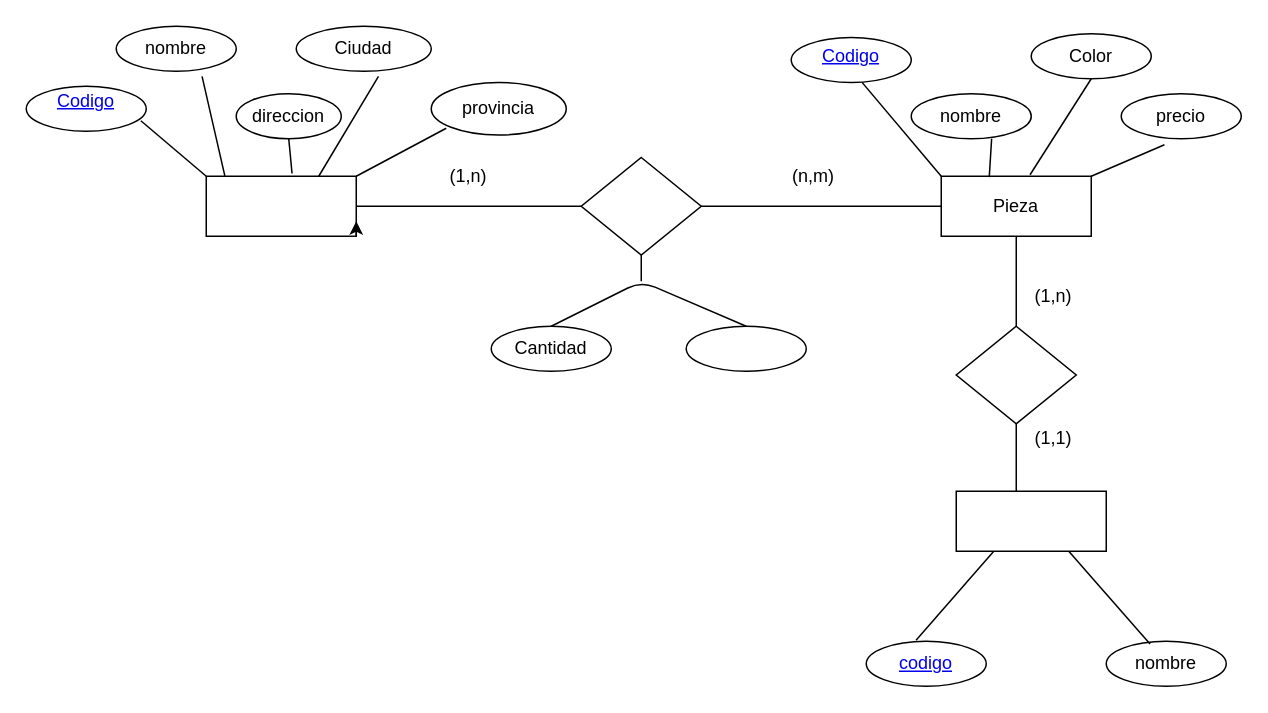
The diagram is 1268 pixels wide and 713 high, and some of its shapes have lost their labels. Here are the shapes that lost their labels. From the top down, the centre of each, then its label:
[280,205]: Proveedor
[640,205]: suministra
[745,348]: Fecha
[1015,374]: esta
[1030,520]: Categoria
